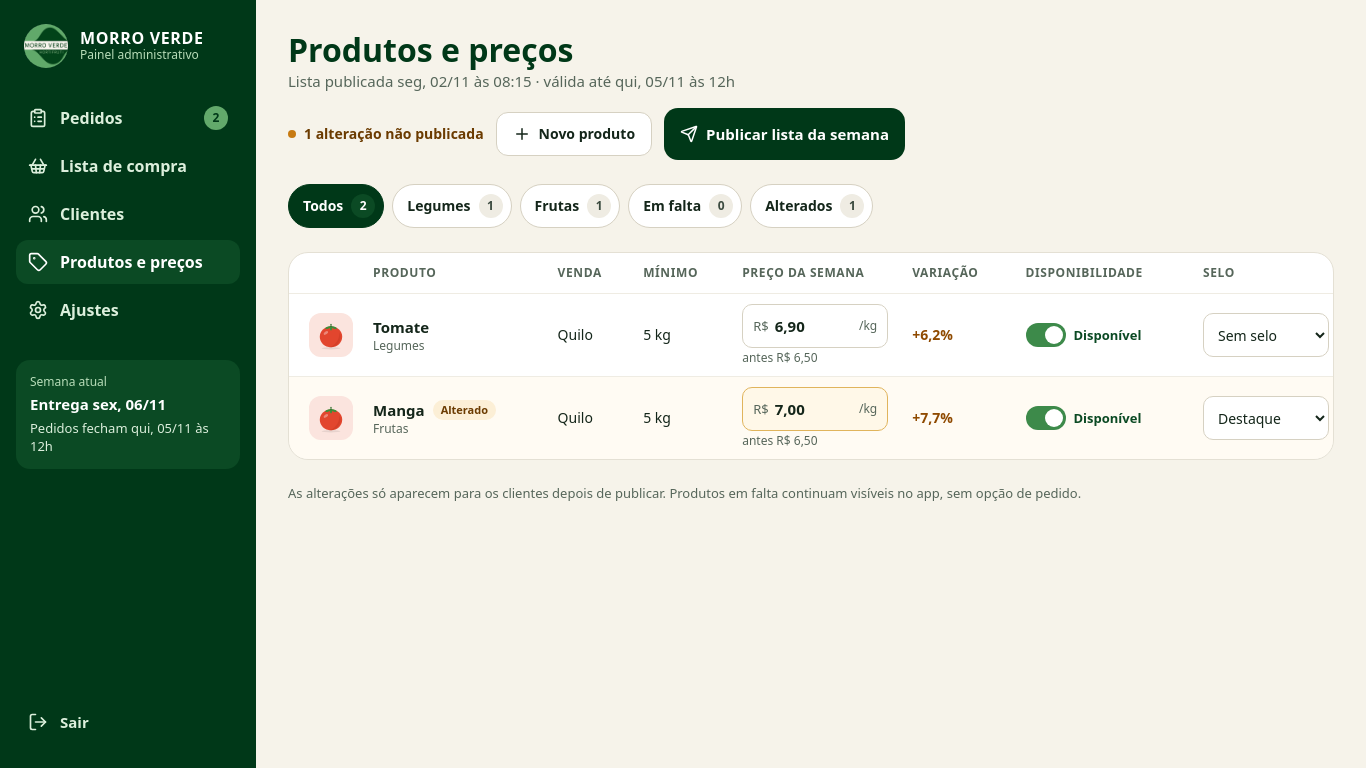
Produtos e preços › com a semana aberta, confirma e publica sem abrir semana
Check: the field named "Preço de Tomate por kg" is shown, box top-left (775, 315), bottom-right (853, 337)
Step 1. Click the button "Publicar lista da semana" → (785, 134), box top-left (664, 108), bottom-right (905, 160)
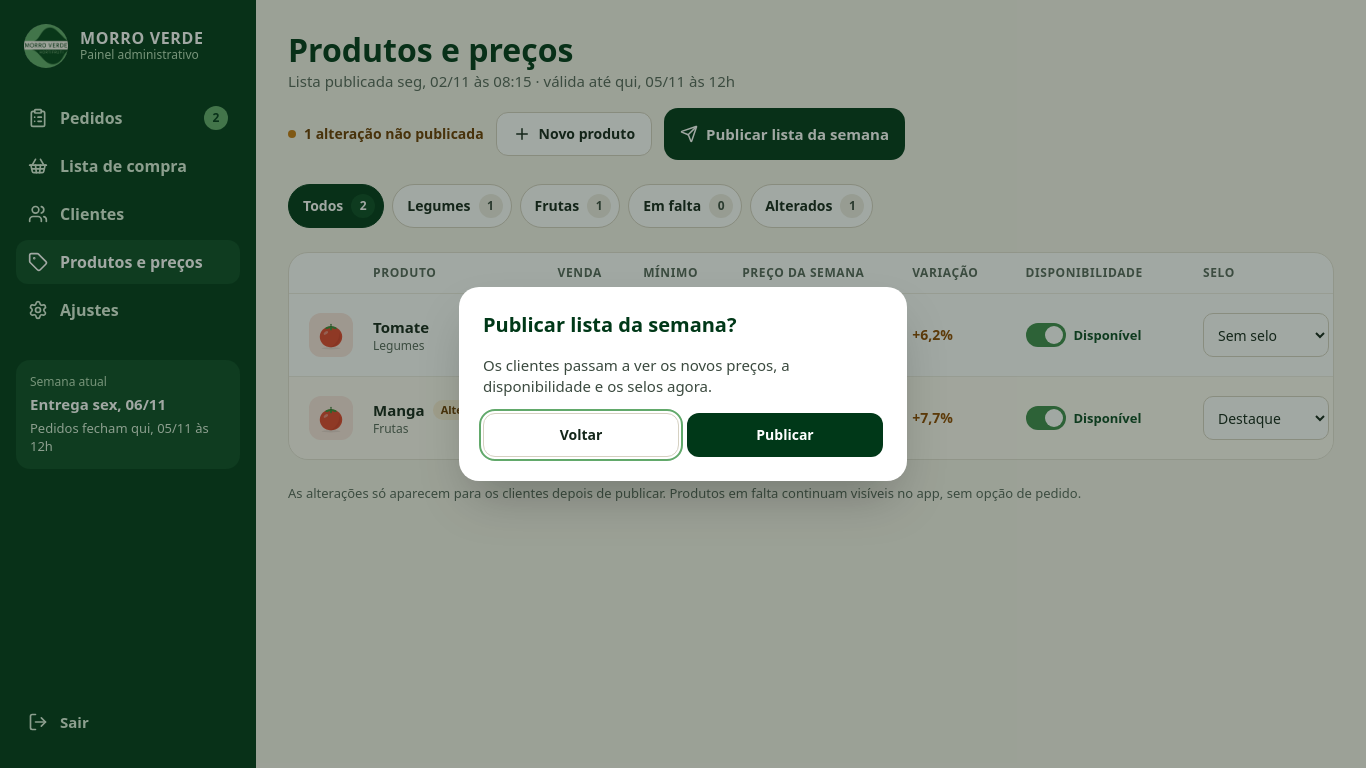
Step 2. Click the button "Publicar" → (785, 435), box top-left (687, 413), bottom-right (883, 457)
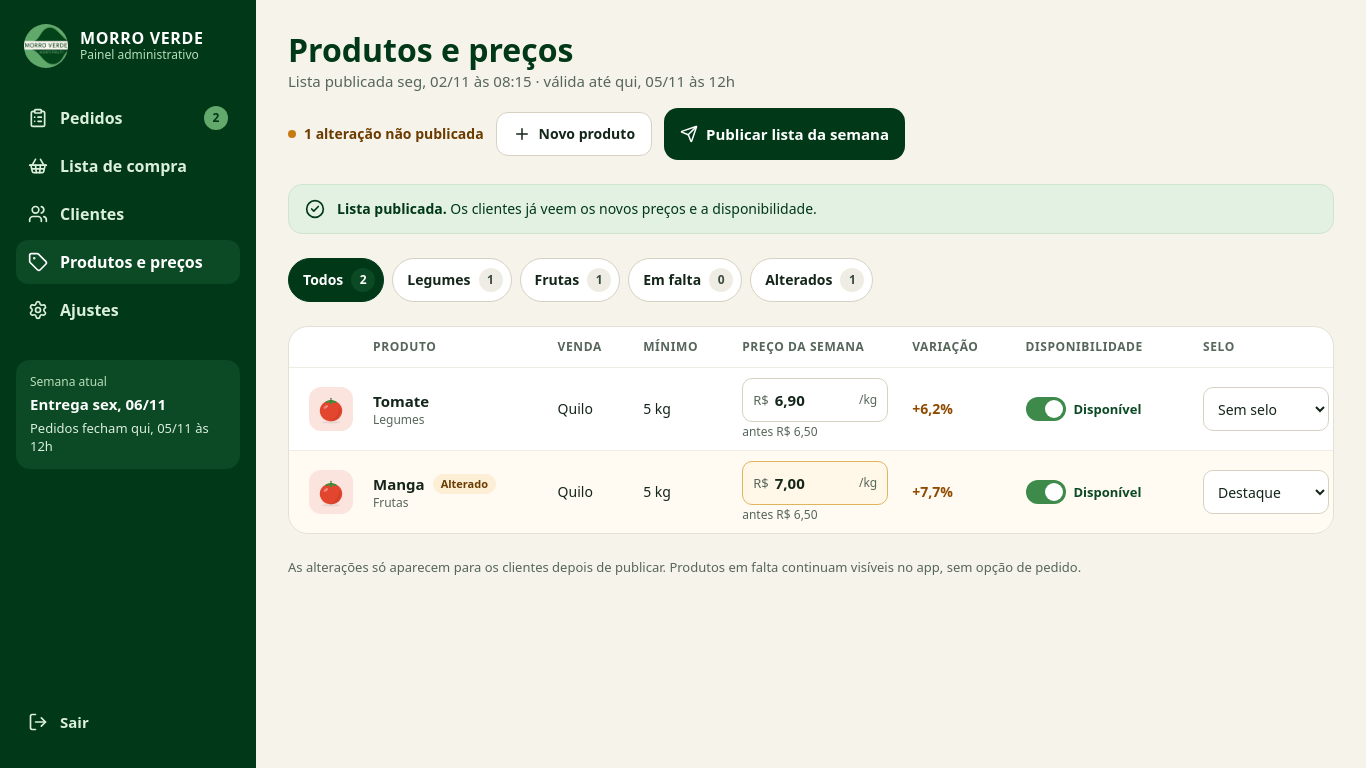
Check: the text "Lista publicada." is shown, box top-left (337, 199), bottom-right (447, 218)
